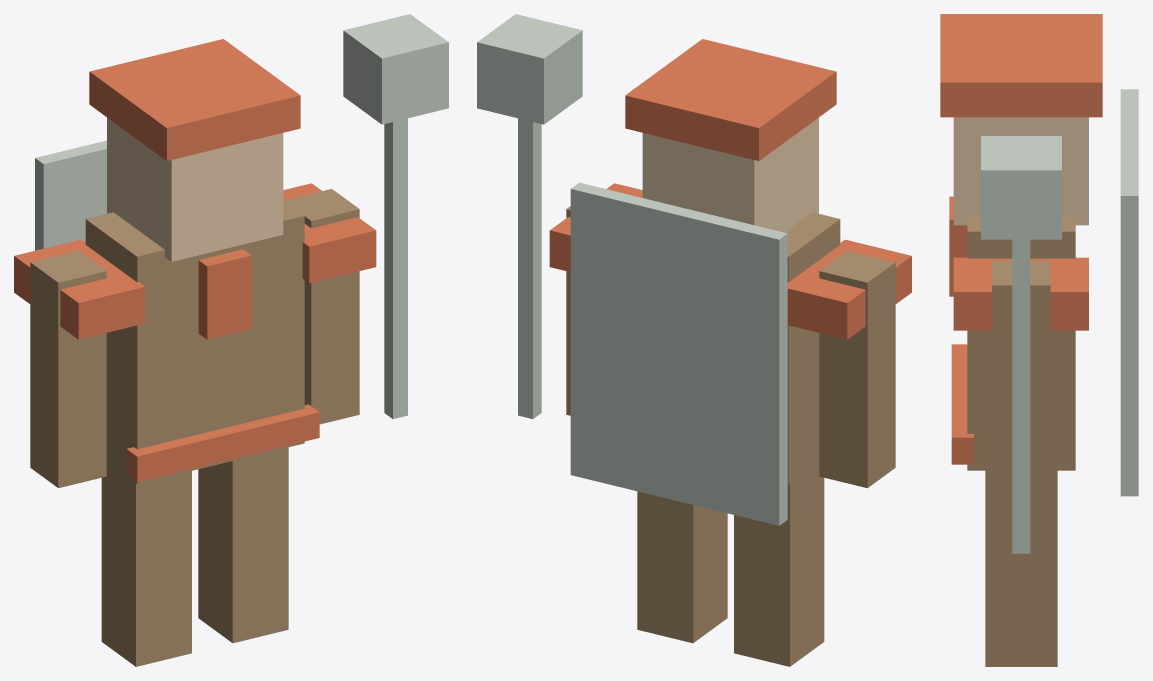
Rendered from 08_draven_voxmere_diver_from_salvager.glb.
3 views of the same model, side by side, from view 1: azimuth 30°, elevation 25°; view 2: azimuth 150°, elevation 25°; view 3: azimuth 270°, elevation 25° (orthographic). The views are drawn at different scales.
Visible parts, largest first — view 1: Draven Voxmere, Diver from Salvager; view 2: Draven Voxmere, Diver from Salvager; view 3: Draven Voxmere, Diver from Salvager.
Boxes of the visible parts, x1,y1,x2,y2 form: Draven Voxmere, Diver from Salvager: (14,14,448,666); Draven Voxmere, Diver from Salvager: (477,14,911,666); Draven Voxmere, Diver from Salvager: (940,14,1138,666).
Bounding box in the file's own units: 1.13 × 1.55 × 0.4802.
